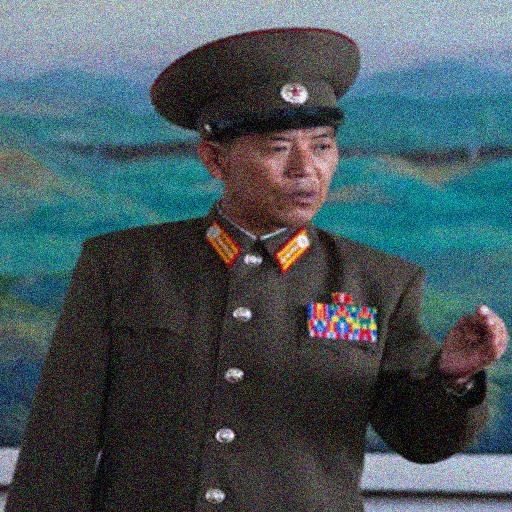north army: (50, 32, 510, 512)
